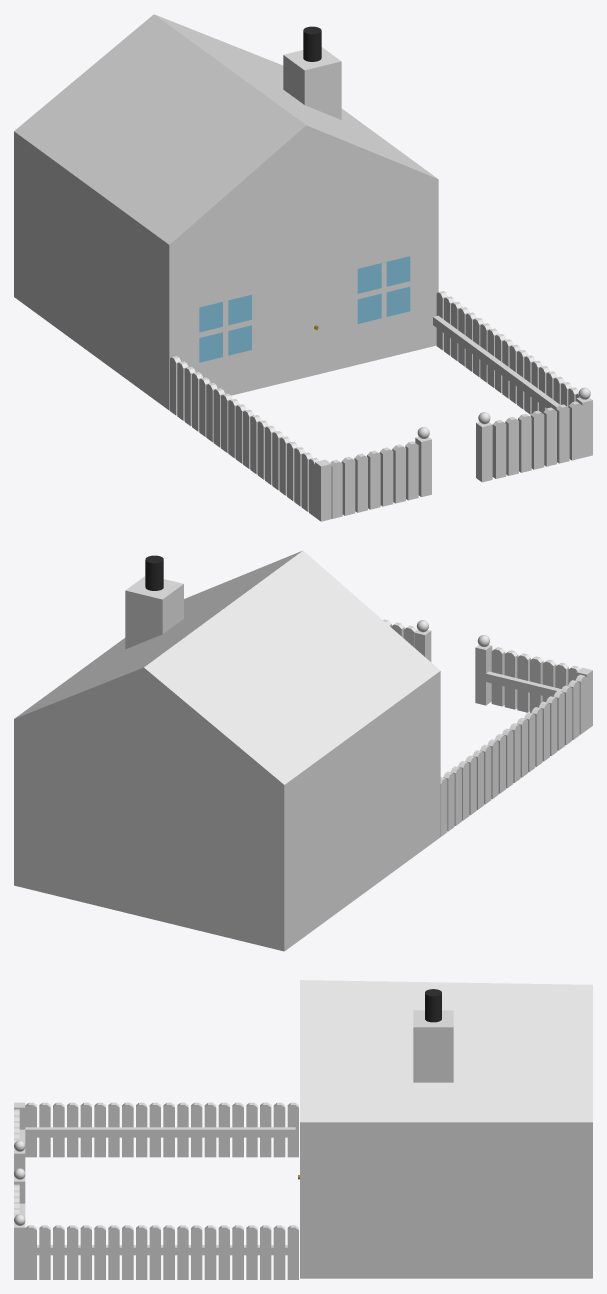
File: huis.fbx
3 views of the same model, one above another, from view 1: azimuth 30°, elevation 25°; view 2: azimuth 150°, elevation 25°; view 3: azimuth 270°, elevation 25° (orthographic). The views are drawn at different scales.
Parts seen in each view (by area): view 1: Cube, Cube.001, Cube.009, Cube.005, Cube.012, Cube.027, Plane.002, Plane, Cube.010, Cube.006, Cube.011, Cube.014 (+1 smaller); view 2: Cube, Cube.001, Cube.012, Cube.027, Cube.014, Cube.013, Cylinder; view 3: Cube, Cube.009, Cube.001, Cube.004, Cube.027, Cube.008, Cube.010, Cylinder.
Boxes of the visible parts, box(x1,y1,x2,y2) form: Cube: box(14, 14, 438, 410); Cube.001: box(170, 356, 318, 516); Cube.009: box(436, 291, 579, 414); Cube.005: box(492, 401, 582, 478); Cube.012: box(330, 441, 418, 518); Cube.027: box(283, 47, 341, 119); Plane.002: box(357, 256, 410, 323); Plane: box(199, 294, 251, 362); Cube.010: box(433, 315, 559, 410); Cube.006: box(315, 459, 331, 521); Cube.011: box(476, 422, 492, 482); Cube.014: box(415, 436, 431, 497); Cube: box(14, 550, 440, 951); Cube.001: box(440, 674, 586, 836); Cube.012: box(491, 647, 580, 712); Cube.027: box(125, 576, 183, 649); Cube.014: box(475, 645, 492, 705); Cube.013: box(486, 671, 561, 697); Cylinder: box(145, 555, 163, 590); Cube: box(298, 980, 592, 1278); Cube.009: box(25, 1225, 298, 1279); Cube.001: box(25, 1102, 298, 1157); Cube.004: box(25, 1127, 295, 1137); Cube.027: box(413, 1010, 453, 1082); Cube.008: box(14, 1223, 25, 1279); Cube.010: box(37, 1245, 287, 1255); Cylinder: box(425, 989, 441, 1022).
Bounding box in the file's own units: 1030 × 1000 × 2015.
